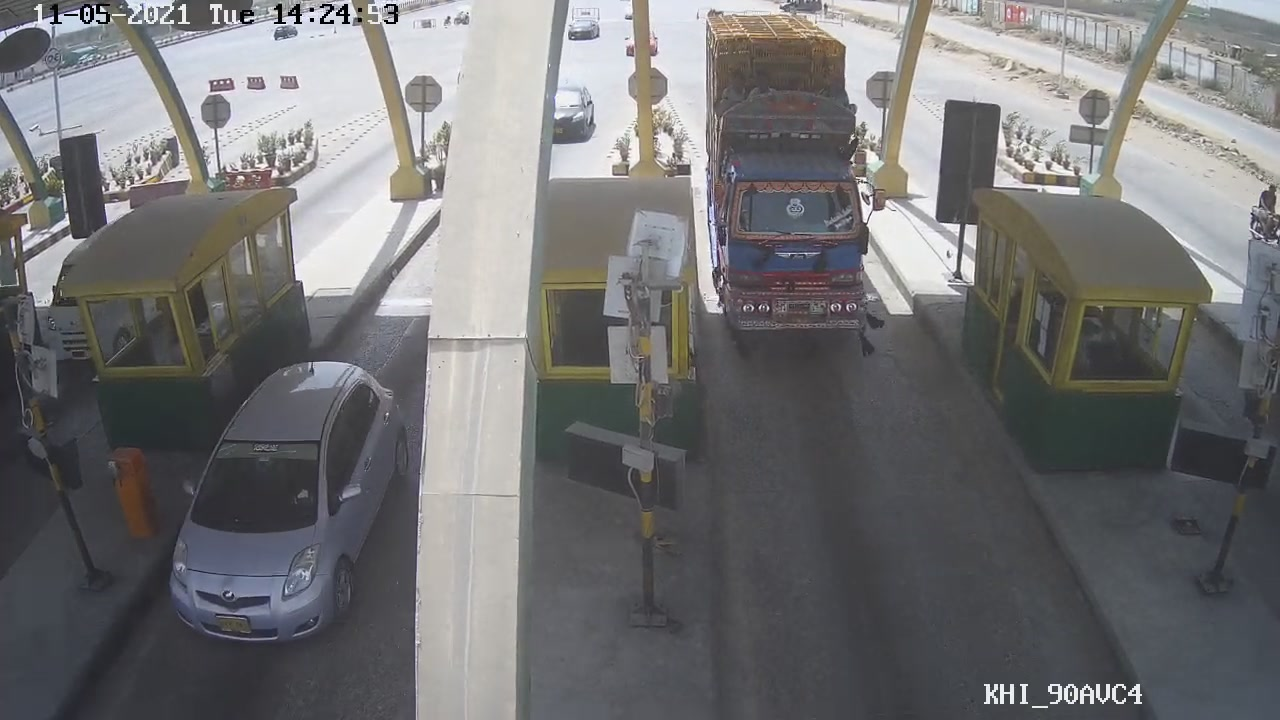F5: (697, 61, 882, 351)
